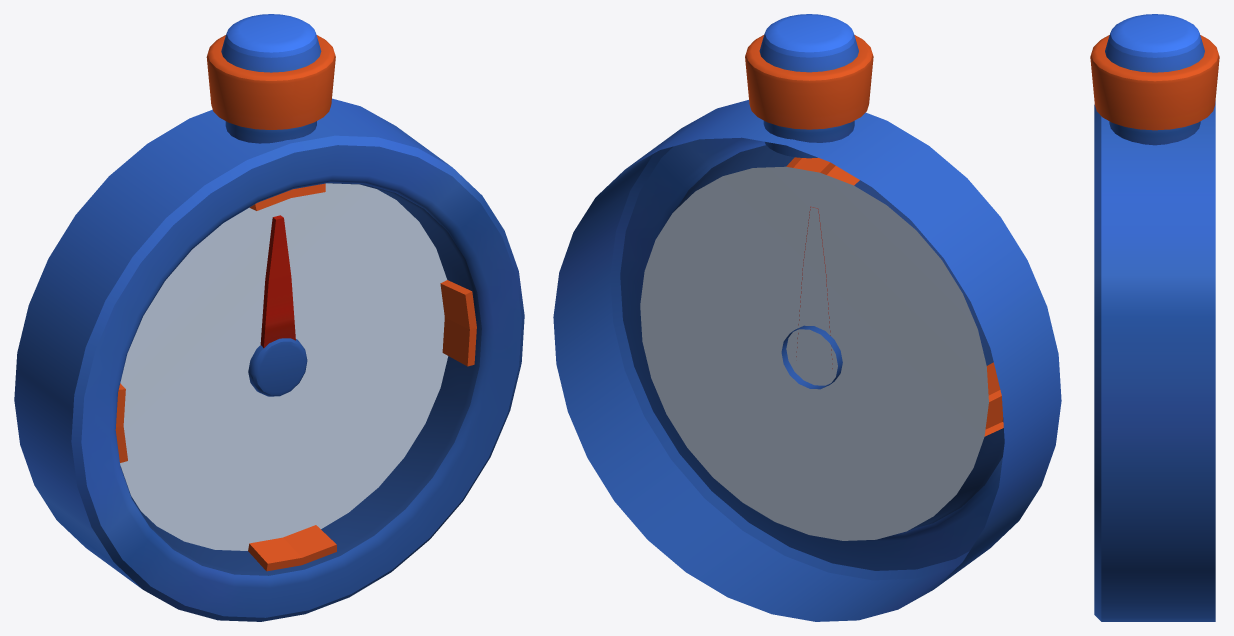
Rendered from Cronometro.glb.
The picture shows the model from 3 angles, left to right: view 1: azimuth 30°, elevation 25°; view 2: azimuth 150°, elevation 25°; view 3: azimuth 270°, elevation 25°; orthographic projection.
Visible parts, largest first — view 1: CronometroBase, Ponteiro; view 2: CronometroBase; view 3: CronometroBase.
Boxes of the visible parts, x1,y1,x2,y2 form: CronometroBase: (14, 14, 524, 621); Ponteiro: (260, 215, 295, 348); CronometroBase: (553, 14, 1061, 621); CronometroBase: (1090, 14, 1219, 621).
Bounding box in the file's own units: 2 × 2.39 × 0.4933.
Materials: 1 (1 with a texture image).
